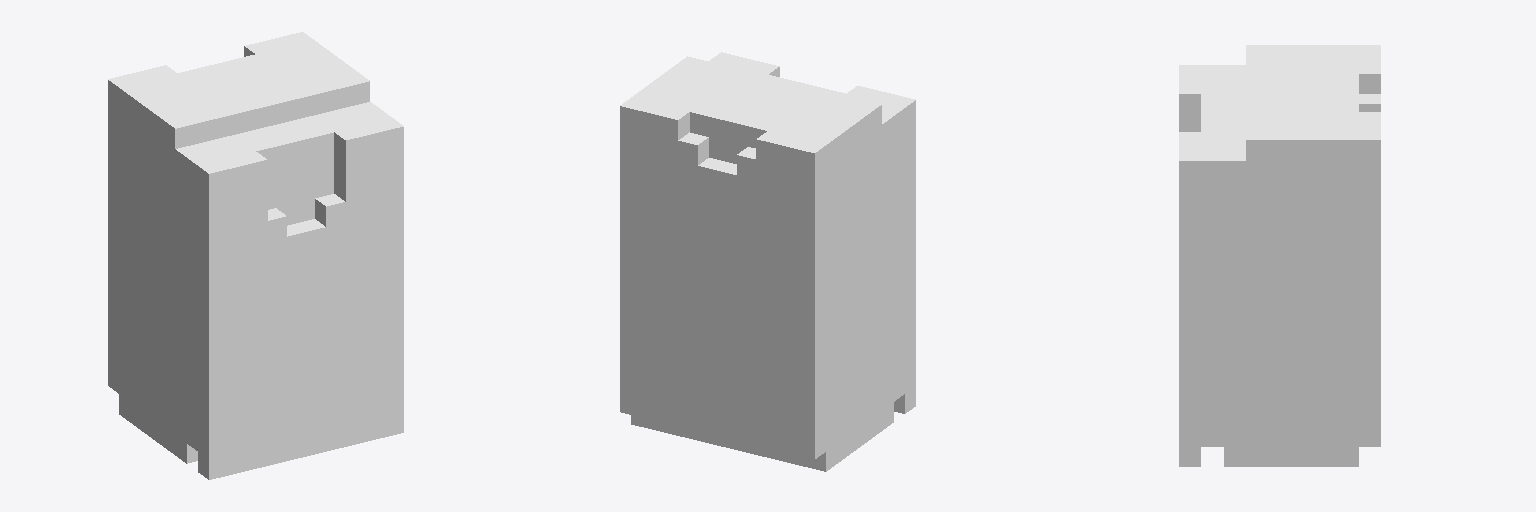
The model's file is CHARACTER-6.obj.
3 views of the same model, side by side, from view 1: azimuth 30°, elevation 25°; view 2: azimuth 150°, elevation 25°; view 3: azimuth 270°, elevation 25° (orthographic).
Visible parts, largest first — view 1: object 1; view 2: object 1; view 3: object 1.
Boxes of the visible parts, <box> form: object 1: <box>108,32,403,479</box>; object 1: <box>620,52,915,471</box>; object 1: <box>1179,45,1380,466</box>.
Bounding box in the file's own units: 1 × 1.6 × 0.9.